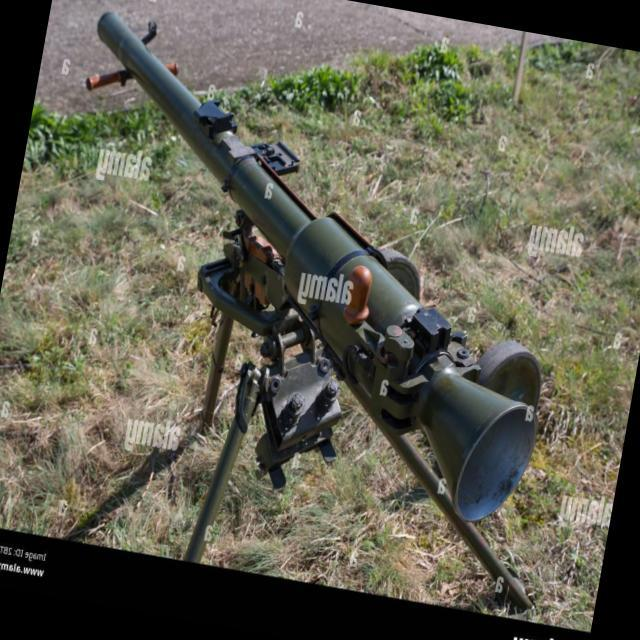rocket: (22, 10, 603, 532)
